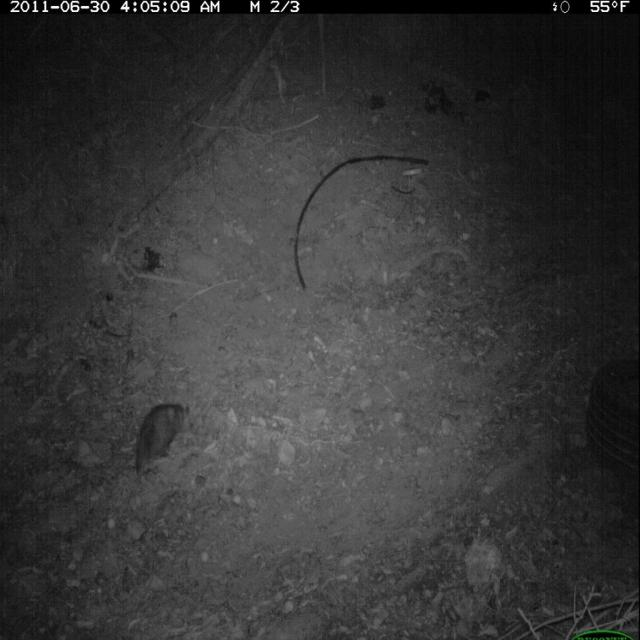opossum: (130, 387, 194, 493)
